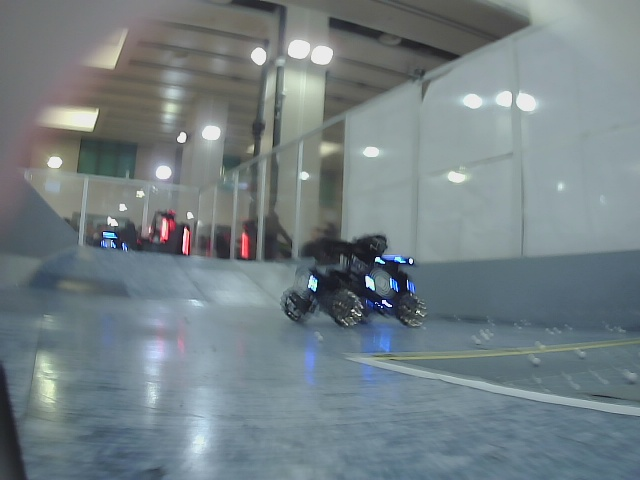pair: (366, 276, 398, 291)
